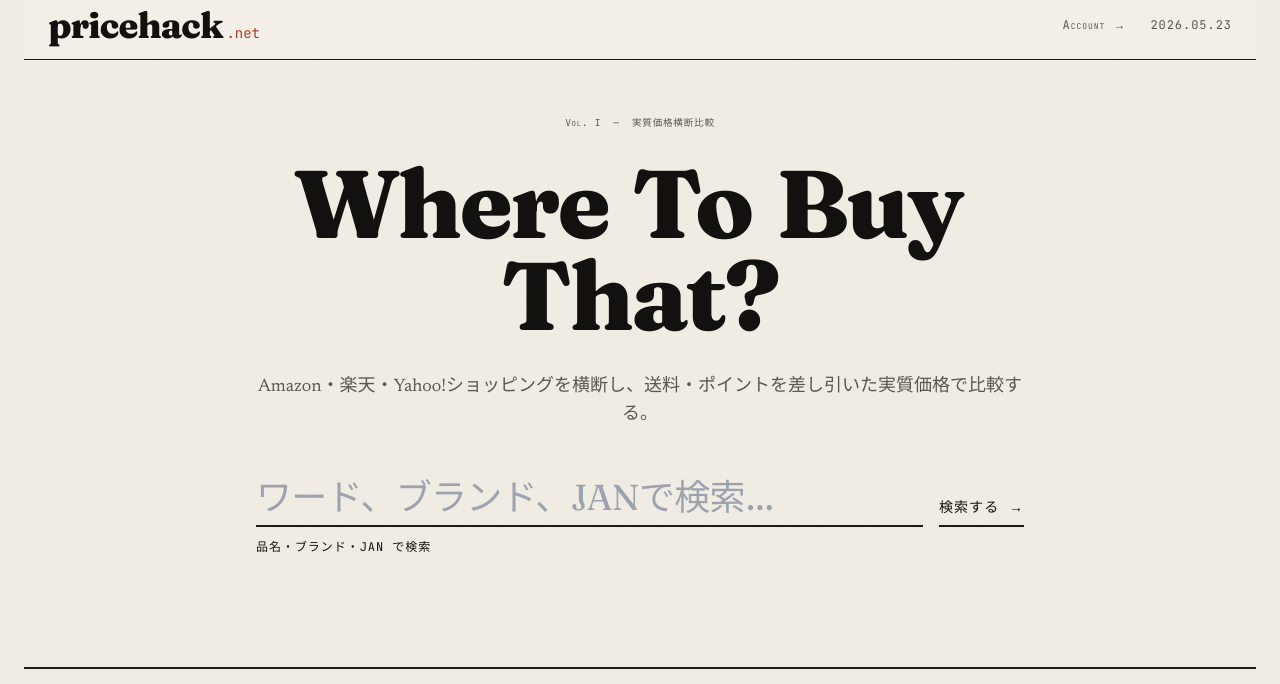
HomePage（API 接続版・SWR 経由） › envelope の items を商品リストとして表示する（envelope オブジェクト直接ではなく items を使う）
Type "テスト" into the search field at x=589, y=498, box [256,469,923,527]
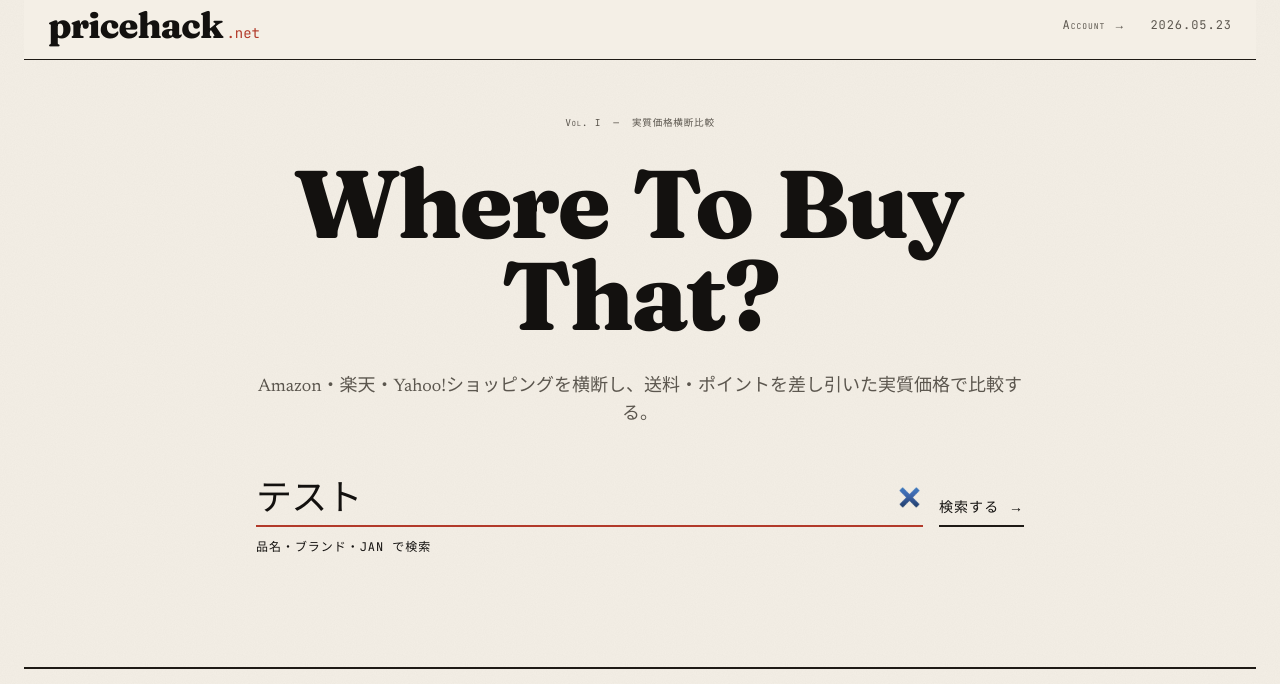
Click the button "検索する →" at x=981, y=508, box [939,489,1024,527]
(page scrolled)
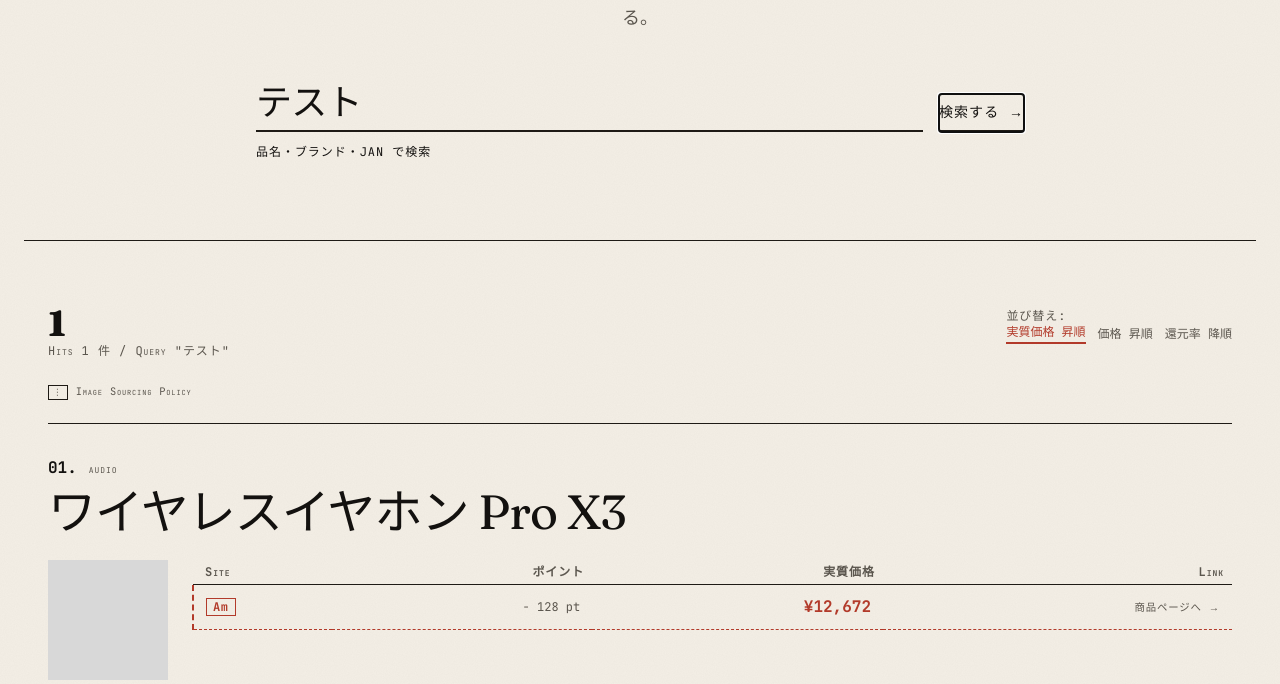
Now the text "Hits 1 件 / Query \"テスト\"" is shown, box [48,343,230,359]
